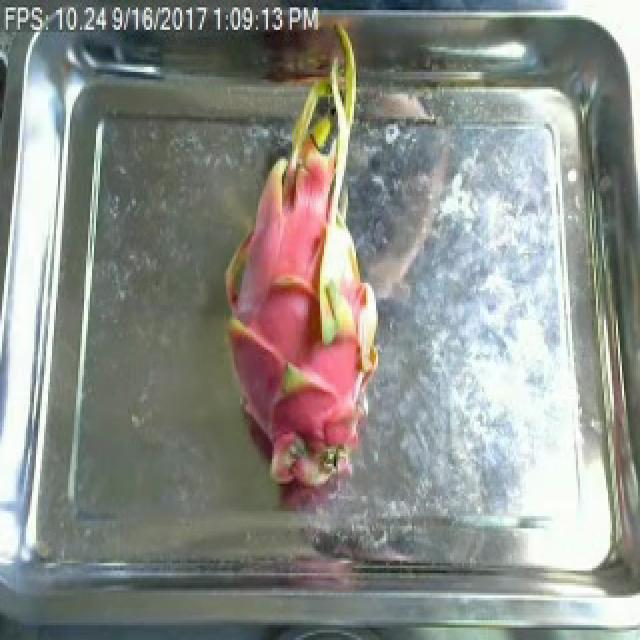fruit: (206, 39, 408, 478)
